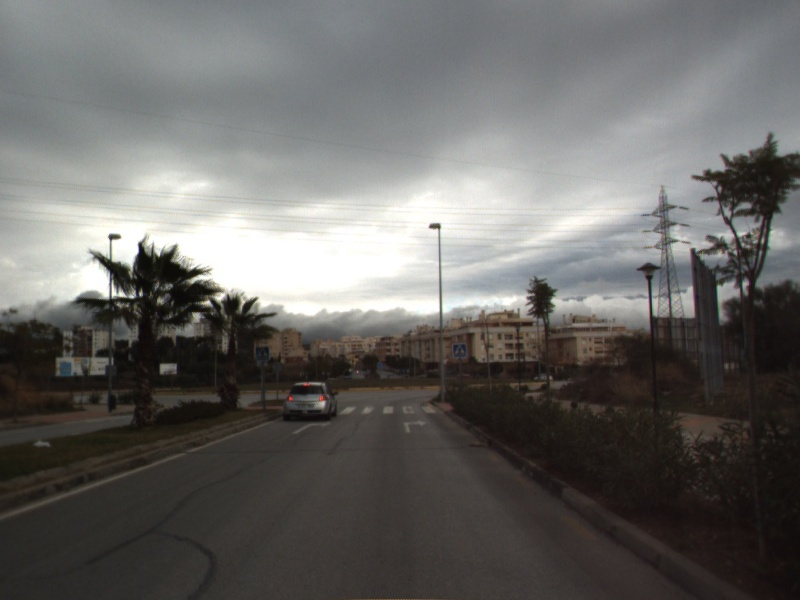RIGHT: (290, 419, 333, 436), (401, 418, 429, 435)
